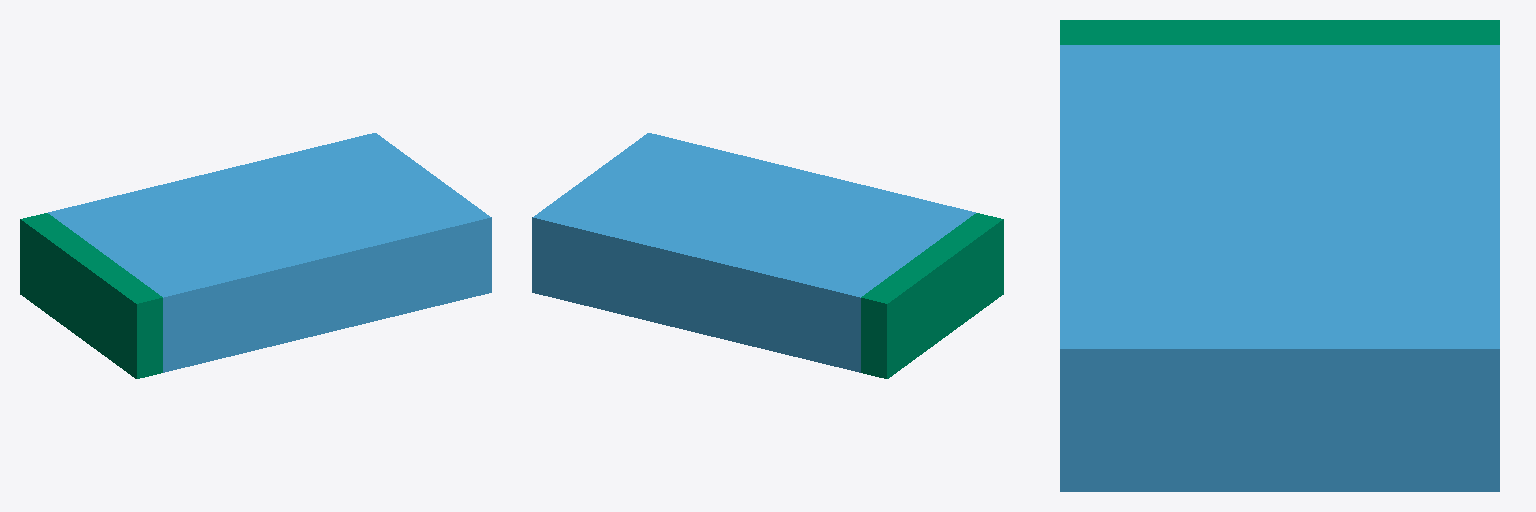
robot.urdf — rectangular_model:
<?xml version="1.0"?>
<robot name="rectangular_model">

  <material name="white">
    <color rgba="1.0 1.0 1.0 1.0"/>
  </material>

  <material name="orange">
    <color rgba="1.0 0.423529411765 0.0392156862745 1.0"/>
  </material>
  
  <link name="base1"/>

  <joint name="joint1" type="prismatic">
    <parent link="base1"/>
    <child link="footprint1"/>
    <origin xyz="0.0 0.0 0.0" rpy="0.0 0.0 0.0"/>
    <axis xyz="0.0 0.0 1.0"/>
    <!-- <limit effort="1000.0" lower="-4" upper="4" velocity="100"/> -->
    <limit velocity="5"/>
  </joint>

  <link name="footprint1">
    <inertial>
      <mass value="12.3188555"/>
      <origin xyz="0.00142 -0.00222 -0.04319" rpy="0 0 0"/>
      <inertia ixx="0.1104557116459" ixy="0.0002742627834" ixz="-0.0007826805716" iyy="0.2925866863396" iyz="-0.0018014327089" izz="0.3259809298915"/>
    </inertial>
    <collision name="footprint1_col">
      <origin xyz="0 0 0" rpy="0 0 0"/>
      <geometry>
        <box size="0.98 0.6 0.215"/>
      </geometry>
    </collision>
    <visual name="footprint1_vis">
      <origin xyz="0 0 0" rpy="0 0 0"/>
      <geometry>
        <box size="0.98 0.6 0.215"/>
      </geometry>
    </visual>
  </link>
  
  <joint name="joint2" type="fixed">
    <parent link="footprint1"/>
    <child link="footprint2"/>
    <origin xyz="-0.53 0.0 0.0" rpy="0.0 0.0 0.0"/>
  </joint>

  <link name="footprint2">
    <inertial>
      <mass value="12.3188555"/>
      <origin xyz="0.00142 -0.00222 -0.04319" rpy="0 0 0"/>
      <inertia ixx="0.1104557116459" ixy="0.0002742627834" ixz="-0.0007826805716" iyy="0.2925866863396" iyz="-0.0018014327089" izz="0.3259809298915"/>
    </inertial>
    <collision name="footprint2_col">
      <origin xyz="0 0 0" rpy="0 0 0"/>
      <geometry>
        <box size="0.08 0.6 0.215"/>
      </geometry>
    </collision>
    <visual name="footprint2_vis">
      <origin xyz="0 0 0" rpy="0 0 0"/>
      <geometry>
        <box size="0.08 0.6 0.215"/>
      </geometry>
    </visual>
  </link>

<!-- 
   <joint name="joint3" type="fixed">
    <parent link="footprint"/>
    <child link="head"/>
    <origin xyz="0.0 0.0 0.0" rpy="0.0 0.0 0.0"/>
  </joint>

  <link name="head">
    <visual name="head_vis">
      <origin xyz="0.0 0.0 0.0" rpy="0 0 0"/>
      <geometry>
        <box size="0.1 0.1 0.1"/>
      </geometry>
    </visual>
  </link> -->

  
</robot>

--- What the picture shows (computed from the rendered views, not written in the file) ---
3 views of the same robot in one strip: view 1: azimuth 30°, elevation 25°; view 2: azimuth 150°, elevation 25°; view 3: azimuth 270°, elevation 25° (orthographic).
Model rectangular_model with 3 links and 2 joints (1 prismatic, 1 fixed), rooted at base1, posed every joint at zero.
Links seen in each view (by area): view 1: footprint1, footprint2; view 2: footprint1, footprint2; view 3: footprint1, footprint2.
Boxes of the visible links, bbox=[...] form: footprint1: bbox=[48, 133, 491, 372]; footprint2: bbox=[20, 213, 162, 378]; footprint1: bbox=[532, 133, 975, 372]; footprint2: bbox=[861, 213, 1003, 378]; footprint1: bbox=[1060, 45, 1499, 491]; footprint2: bbox=[1060, 20, 1499, 44].
Size in the robot's own frame: 1.06 by 0.6 by 0.215 metres.
Geometry: primitives only (box / cylinder / sphere), no mesh files.